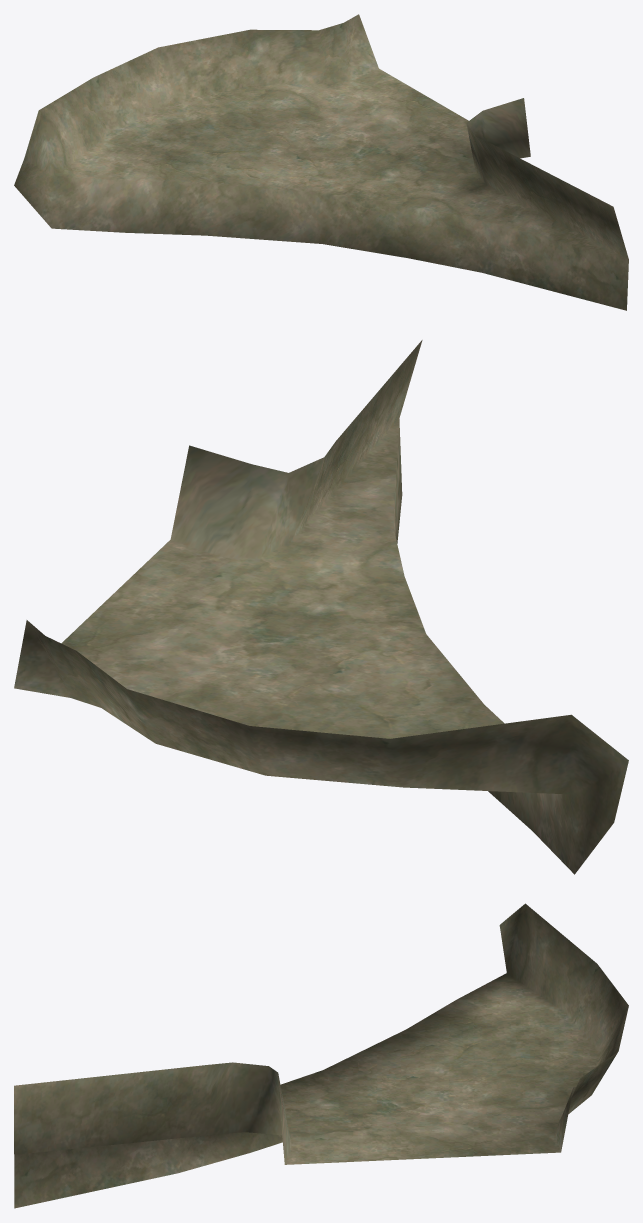
Rendered from EKH_GROTTO_PS_GR_LINE19.fbx.
3 renders of one model, top to bottom at view 1: azimuth 30°, elevation 25°; view 2: azimuth 150°, elevation 25°; view 3: azimuth 270°, elevation 25°, orthographic. The views are drawn at different scales.
Parts seen in each view (by area): view 1: EKH_GROTTO_PS_GR_LINE19; view 2: EKH_GROTTO_PS_GR_LINE19; view 3: EKH_GROTTO_PS_GR_LINE19.
Boxes of the visible parts, left/top/right/bottom form: EKH_GROTTO_PS_GR_LINE19: left=14, top=14, right=628, bottom=310; EKH_GROTTO_PS_GR_LINE19: left=14, top=340, right=628, bottom=874; EKH_GROTTO_PS_GR_LINE19: left=14, top=903, right=628, bottom=1208.
Size of the model in its own units: 33028 by 9308 by 40158.
1 material, 1 textured.
